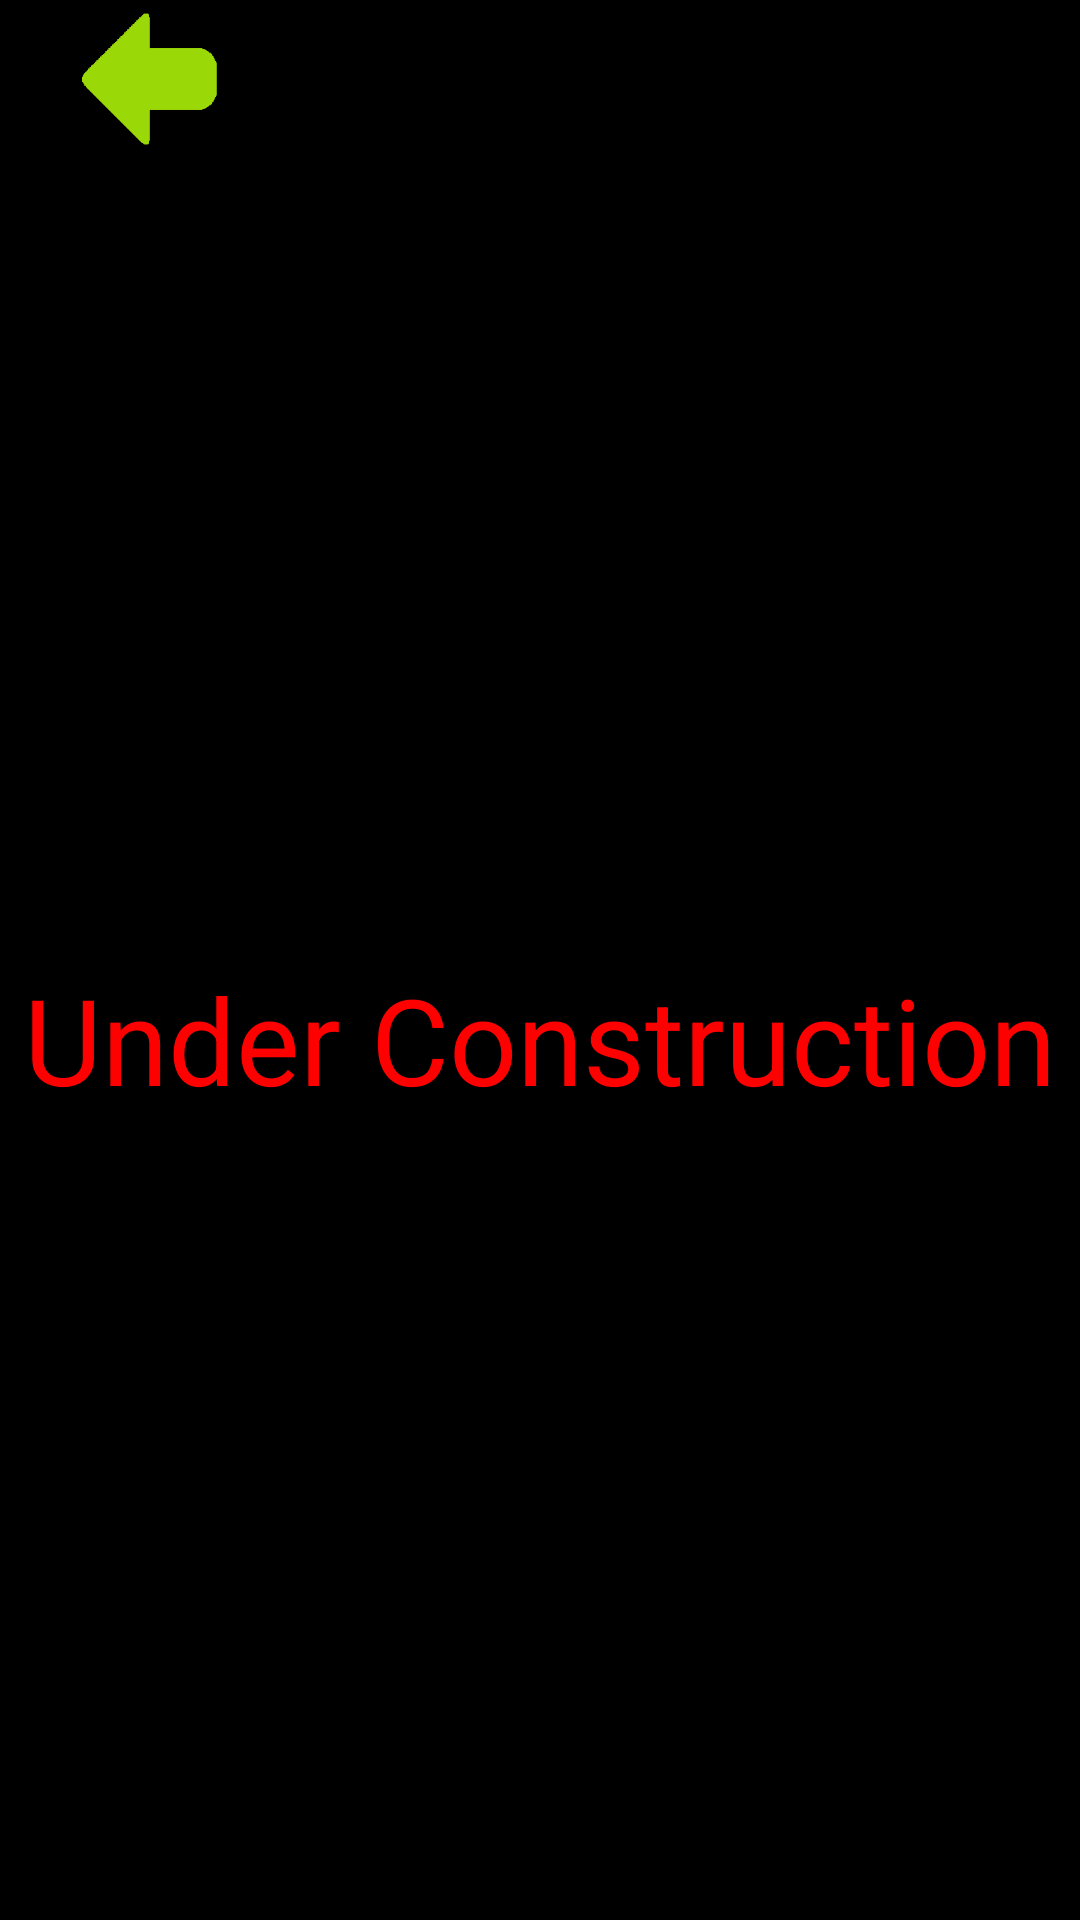

Icons on this 1080x1920 Android screen, each with the point to tap as (x,y):
unselect back: (149,79)
